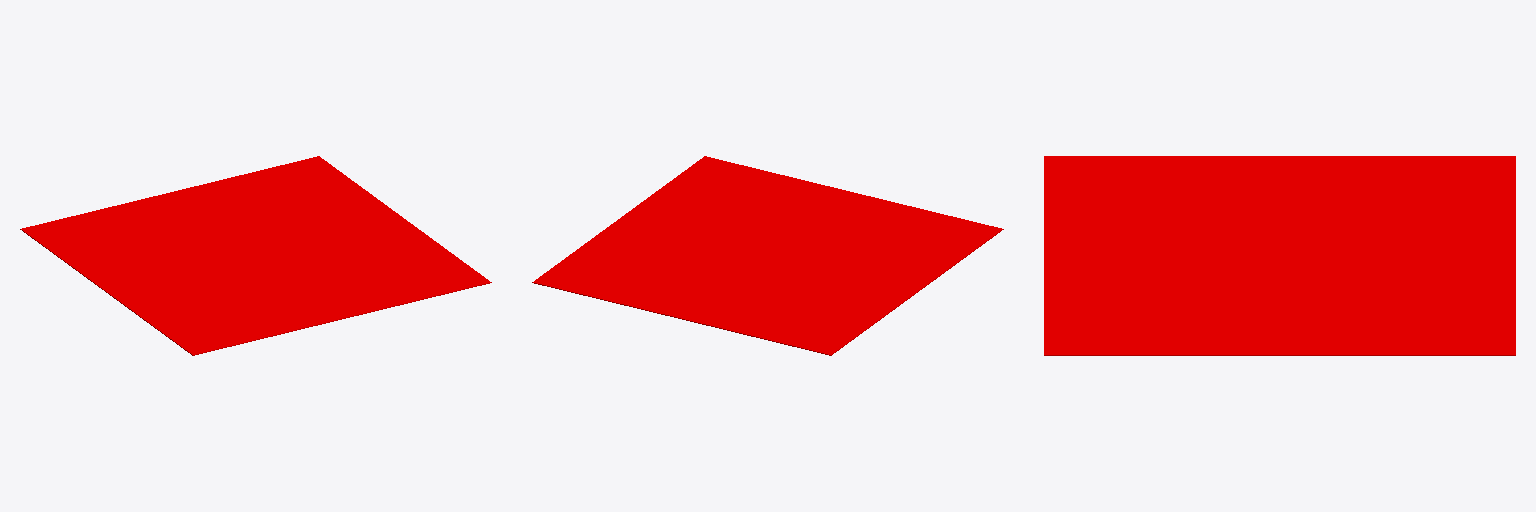
robot.urdf — zone:
<robot name="zone">
  <link name="zone">

    <inertial>
      <origin xyz="0 0 0" />
      <mass value="0.1" />
      <inertia  ixx="0.00003375" ixy="0.0"  ixz="0.0"  iyy="0.00003375"  iyz="0.0"  izz="0.00003375" />
    </inertial>

    <visual>
      <origin xyz="0 0 0"/>
      <geometry>
        <box size="0.2 0.2 0.0005" />
      </geometry>
      <material name="red">
        <color rgba="1 0 0 1.0"/>
      </material>
    </visual>

    <collision>
      <geometry>
        <box size="0.2 0.2 0.0005"/>
      </geometry>
    </collision>

  </link>
</robot>

--- Facts derived from the render (not from the file) ---
The picture shows the robot from 3 angles, left to right: view 1: azimuth 30°, elevation 25°; view 2: azimuth 150°, elevation 25°; view 3: azimuth 270°, elevation 25°; orthographic projection.
Robot: zone — 1 links, 0 joints (none); root link zone; default pose: all joints at 0.
Visible links, largest first — view 1: zone; view 2: zone; view 3: zone.
Link boxes in pixels (x1,y1,x2,y2): zone: [20, 156, 491, 355]; zone: [532, 156, 1003, 355]; zone: [1044, 156, 1515, 355].
Bounding box of the posed robot: 0.2 × 0.2 × 0.0005 m (x, y, z).
Geometry: primitives only (box / cylinder / sphere), no mesh files.
